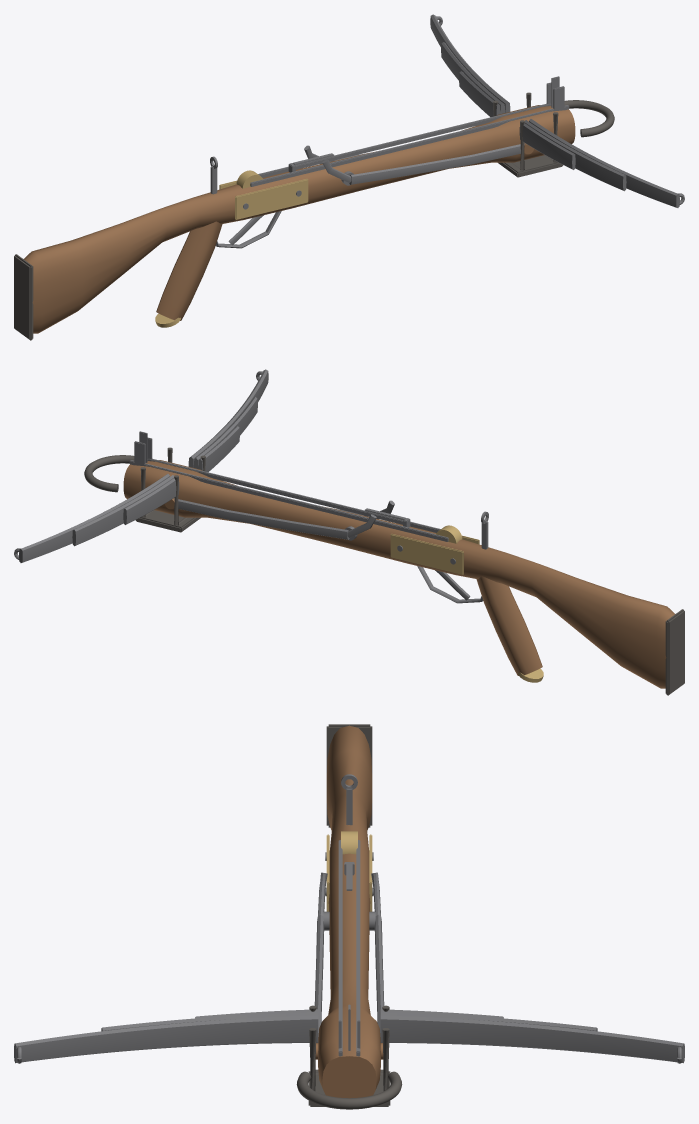
Rendered from crossbow.glb.
3 renders of one model, top to bottom at view 1: azimuth 30°, elevation 25°; view 2: azimuth 150°, elevation 25°; view 3: azimuth 270°, elevation 25°, orthographic. The views are drawn at different scales.
Parts seen in each view (by area): view 1: Tiller, ProdArmR, LeverBars, ProdArmL, Stirrup; view 2: Tiller, ProdArmL, LeverBars, ProdArmR, Stirrup; view 3: Tiller, ProdArmL, ProdArmR, LeverBars, Stirrup.
Part boxes in pixels (<box>): Tiller: <box>14,76,575,340</box>; ProdArmR: <box>519,119,684,207</box>; LeverBars: <box>304,143,533,184</box>; ProdArmL: <box>430,14,510,117</box>; Stirrup: <box>564,100,614,137</box>; Tiller: <box>123,431,684,695</box>; ProdArmL: <box>14,474,179,562</box>; LeverBars: <box>165,498,394,539</box>; ProdArmR: <box>188,369,268,472</box>; Stirrup: <box>84,455,134,492</box>; Tiller: <box>308,724,390,1106</box>; ProdArmL: <box>380,1009,684,1063</box>; ProdArmR: <box>14,1009,318,1063</box>; LeverBars: <box>314,872,384,1059</box>; Stirrup: <box>296,1071,402,1109</box>.
Bounding box in the file's own units: 0.8865 × 0.2236 × 0.6424.
